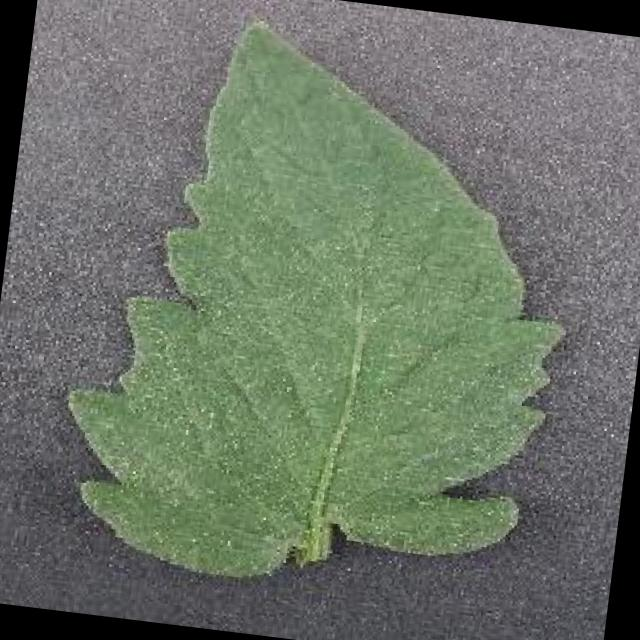Tomato_Healthy: (42, 0, 609, 633)
